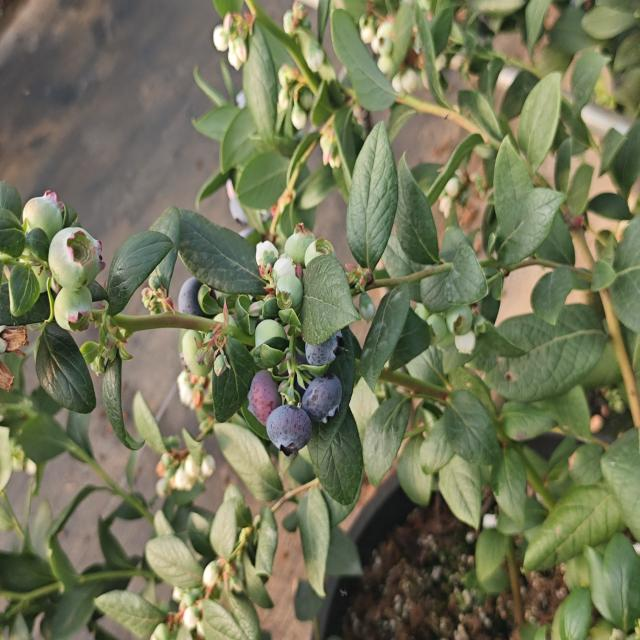ripe: (298, 375, 349, 439), (300, 317, 348, 370), (264, 402, 312, 453), (246, 360, 283, 419), (178, 271, 212, 324)
